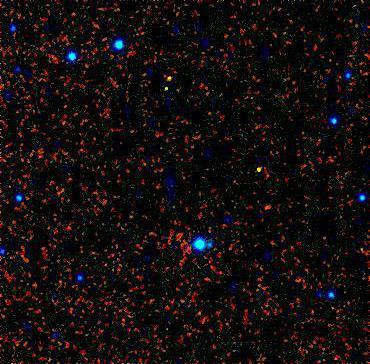star: (249, 195, 279, 225)
